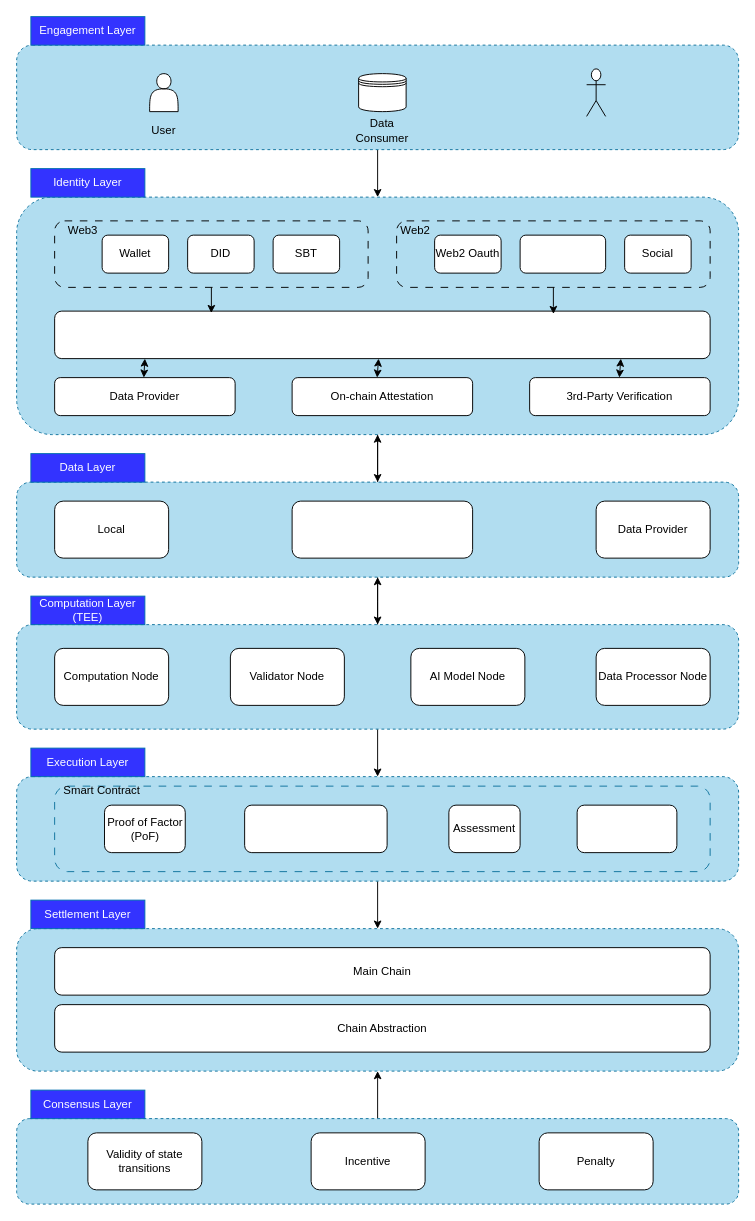
Some shapes in this 755 by 1221 pixel diagram are drawn without their labels. The centre of each missing label's shape, as x and y in pixels:
Business Logic: (626,828)
Compliance KYC/KYB: (562,253)
Distributed Storage (IPFS, Greenfield, etc.): (382,529)
Identity Aggregator (ERC7231): (382,334)
Trustless Reputation Score (TRs): (315,828)
Validator: (596,92)
